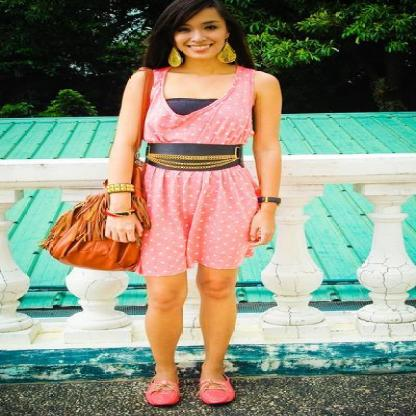bag: (40, 67, 170, 272)
dress: (126, 66, 261, 281)
shoe: (145, 384, 233, 404)
